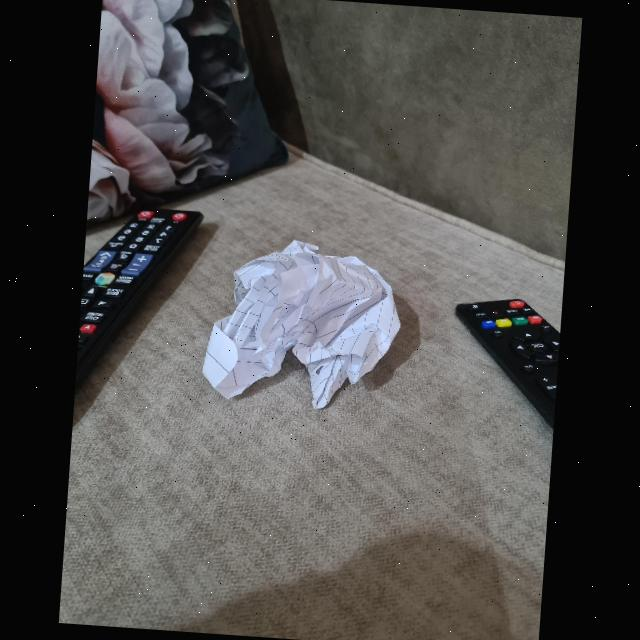trash: (198, 236, 412, 419)
